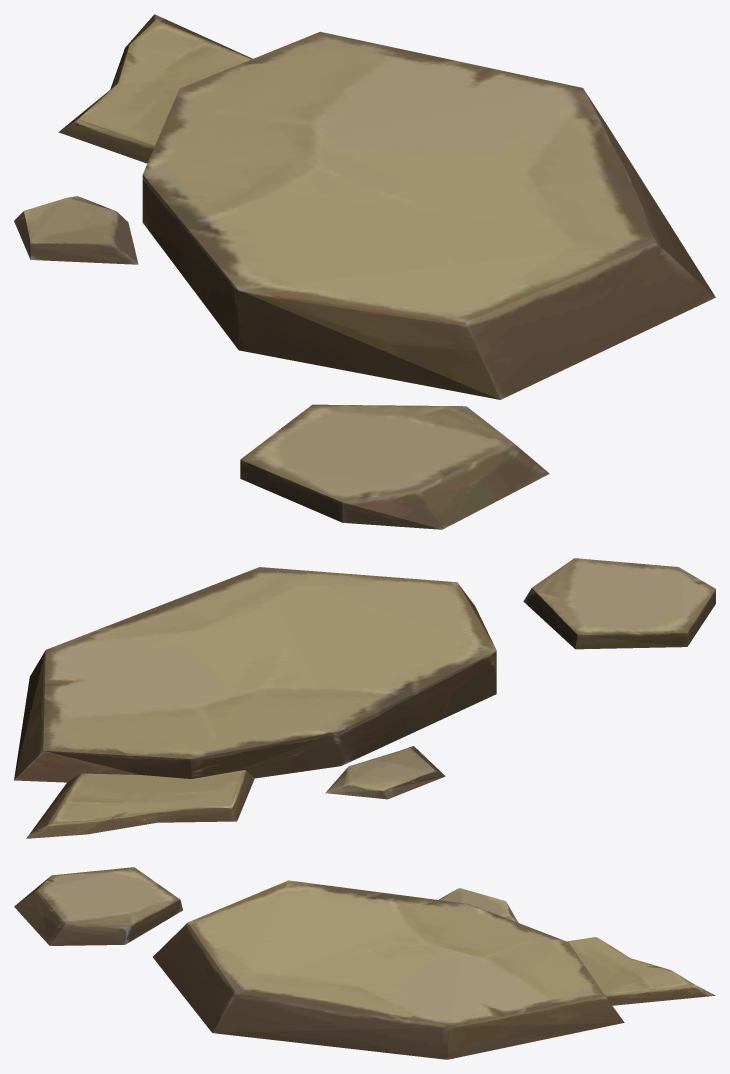
Rendered from caodi_xiaoshitou_02.fbx.
3 renders of one model, top to bottom at view 1: azimuth 30°, elevation 25°; view 2: azimuth 150°, elevation 25°; view 3: azimuth 270°, elevation 25°, orthographic. The views are drawn at different scales.
Parts seen in each view (by area): view 1: caodi_xiaoshitou_02; view 2: caodi_xiaoshitou_02; view 3: caodi_xiaoshitou_02.
Part boxes in pixels (x1=…): caodi_xiaoshitou_02: x1=14, y1=14, x2=715, y2=529; caodi_xiaoshitou_02: x1=14, y1=558, x2=715, y2=838; caodi_xiaoshitou_02: x1=14, y1=867, x2=715, y2=1059.
Bounding box in the file's own units: 3.53 × 0.3183 × 5.77.
